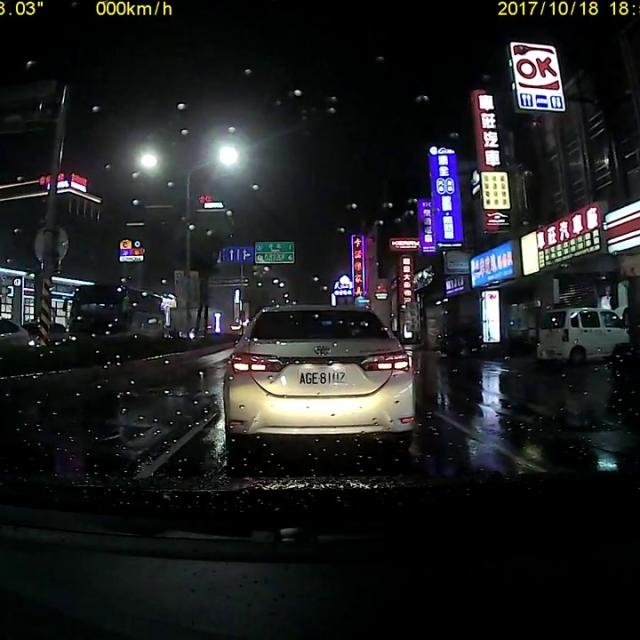Car: (221, 301, 413, 451), (62, 282, 165, 347), (532, 306, 625, 368), (0, 316, 34, 358)
